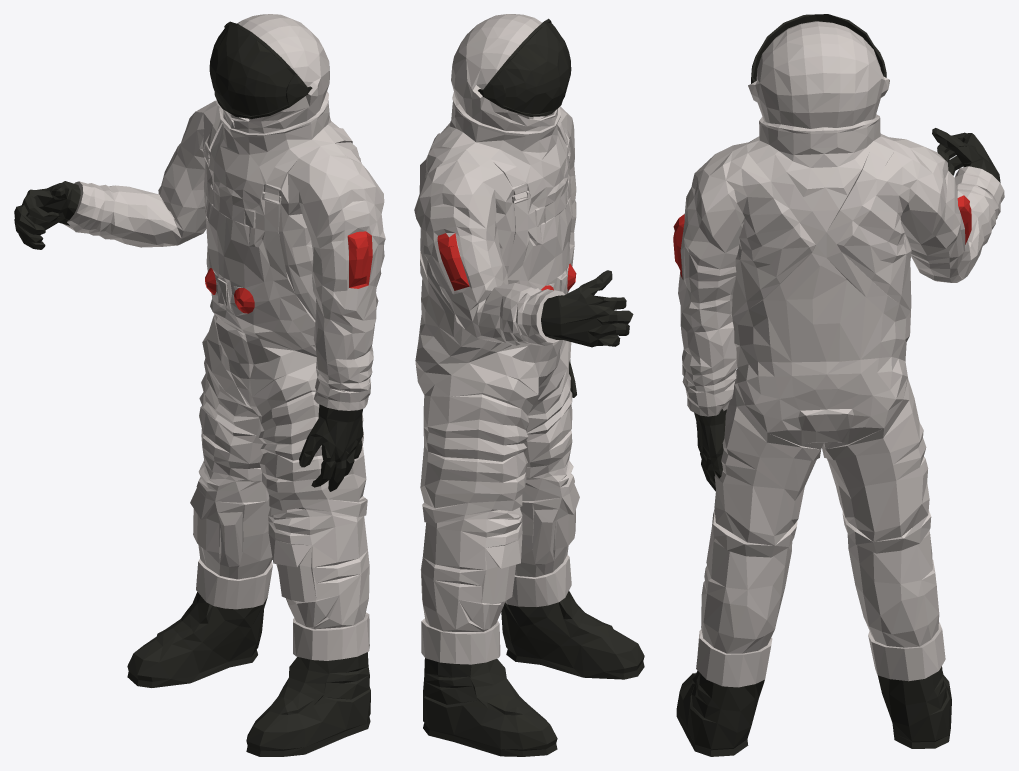
File: 08 Astonaut_3.FBX
The picture shows the model from 3 angles, left to right: view 1: azimuth 30°, elevation 25°; view 2: azimuth 150°, elevation 25°; view 3: azimuth 270°, elevation 25°; orthographic projection. The views are drawn at different scales.
Parts seen in each view (by area): view 1: Astronaut_3; view 2: Astronaut_3; view 3: Astronaut_3.
Boxes of the visible parts, left/top/right/bottom form: Astronaut_3: left=14, top=14, right=385, bottom=756; Astronaut_3: left=414, top=14, right=644, bottom=756; Astronaut_3: left=673, top=14, right=1004, bottom=756.
Size of the model in its own units: 725 by 1780 by 755.
